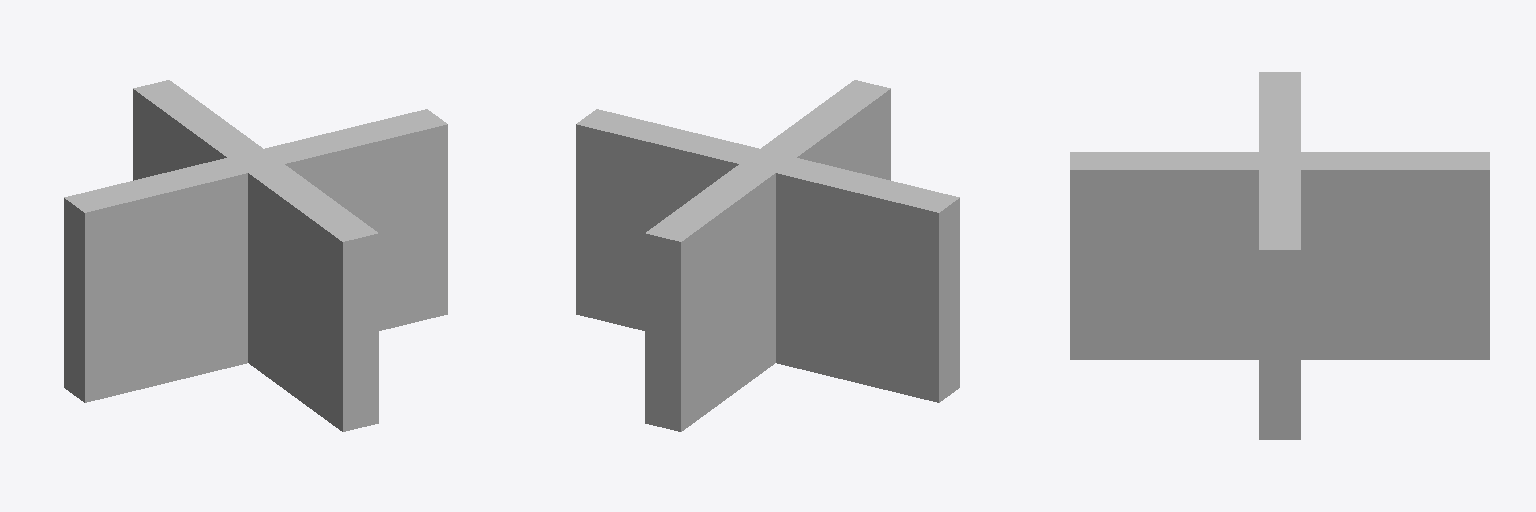
The model's file is wall-cross.obj.
3 views of the same model, side by side, from view 1: azimuth 30°, elevation 25°; view 2: azimuth 150°, elevation 25°; view 3: azimuth 270°, elevation 25° (orthographic).
Visible parts, largest first — view 1: Cube_1.001; view 2: Cube_1.001; view 3: Cube_1.001.
Boxes of the visible parts, x1=… form: Cube_1.001: x1=64, y1=80, x2=447, y2=431; Cube_1.001: x1=576, y1=80, x2=959, y2=431; Cube_1.001: x1=1070, y1=72, x2=1489, y2=439.
Size of the model in its own units: 200 by 100 by 200.